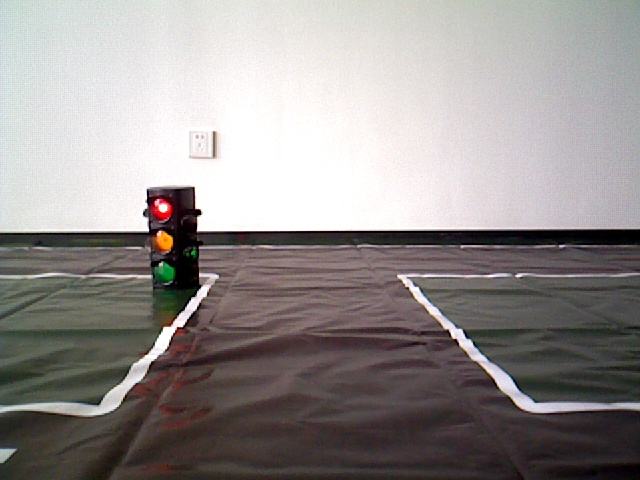red: (148, 185, 195, 287)
